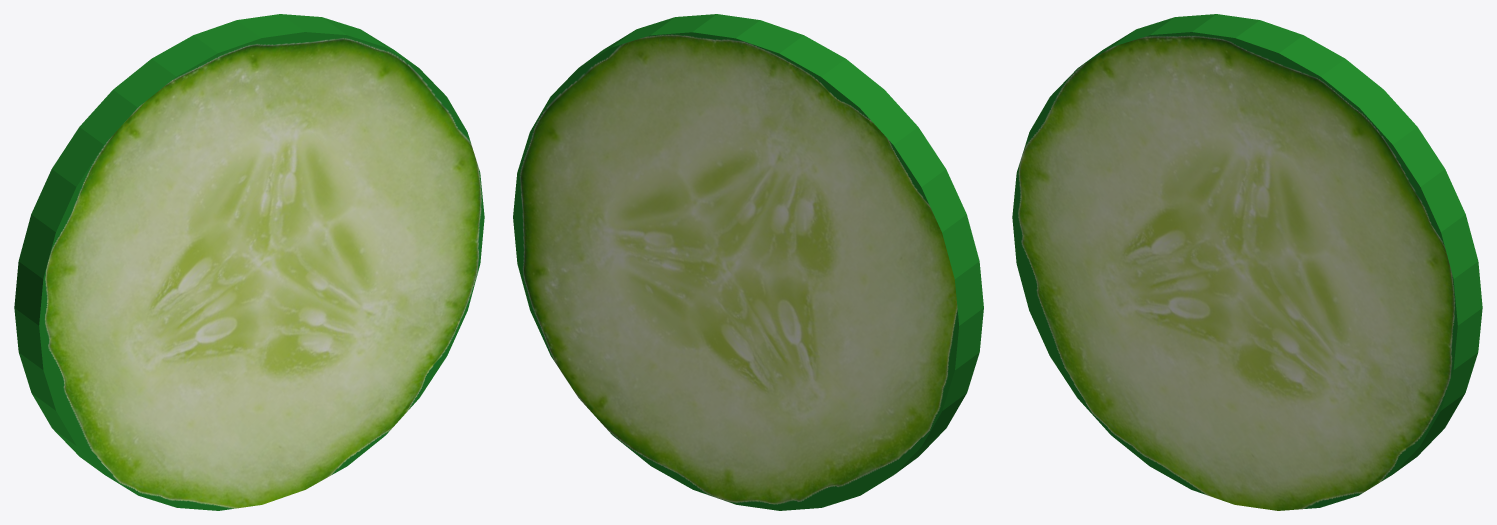
File: слайс огурца.fbx
3 renders of one model, left to right at view 1: azimuth 30°, elevation 25°; view 2: azimuth 150°, elevation 25°; view 3: azimuth 330°, elevation 25°, orthographic.
Visible parts, largest first — view 1: Окружность; view 2: Окружность; view 3: Окружность.
Boxes of the visible parts, x1,y1,x2,y2 form: Окружность: (14, 14, 484, 510); Окружность: (513, 14, 983, 510); Окружность: (1012, 14, 1482, 510).
Bounding box in the file's own units: 161 × 161 × 15.92.
